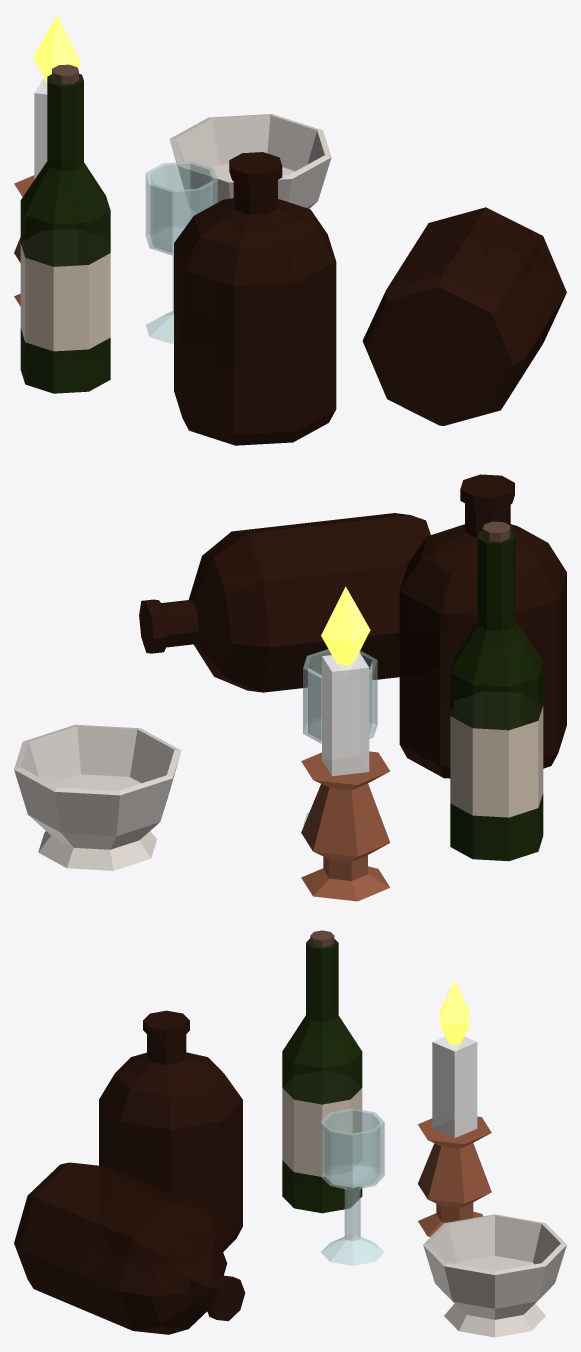
3 renders of one model, top to bottom at view 1: azimuth 30°, elevation 25°; view 2: azimuth 150°, elevation 25°; view 3: azimuth 270°, elevation 25°, orthographic. The views are drawn at different scales.
Parts seen in each view (by area): view 1: Glass_0.08x0.08x0.18_proxy.001_1, Glass_0.08x0.08x0.18_proxy.001_2, Glass_0.08x0.08x0.18_proxy.001_5, Glass_0.08x0.08x0.18_proxy.001_3, Glass_0.08x0.08x0.18_proxy.001_0, Glass_0.08x0.08x0.18_proxy.001_8, Glass_0.08x0.08x0.18_proxy.001_7; view 2: Glass_0.08x0.08x0.18_proxy.001_1, Glass_0.08x0.08x0.18_proxy.001_5, Glass_0.08x0.08x0.18_proxy.001_2, Glass_0.08x0.08x0.18_proxy.001_6, Glass_0.08x0.08x0.18_proxy.001_3, Glass_0.08x0.08x0.18_proxy.001_7, Glass_0.08x0.08x0.18_proxy.001_0, Glass_0.08x0.08x0.18_proxy.001_8; view 3: Glass_0.08x0.08x0.18_proxy.001_1, Glass_0.08x0.08x0.18_proxy.001_5, Glass_0.08x0.08x0.18_proxy.001_2, Glass_0.08x0.08x0.18_proxy.001_0, Glass_0.08x0.08x0.18_proxy.001_6, Glass_0.08x0.08x0.18_proxy.001_3, Glass_0.08x0.08x0.18_proxy.001_7, Glass_0.08x0.08x0.18_proxy.001_8.
Boxes of the visible parts, <box> form: Glass_0.08x0.08x0.18_proxy.001_1: <box>174,152,566,445</box>; Glass_0.08x0.08x0.18_proxy.001_2: <box>20,74,110,393</box>; Glass_0.08x0.08x0.18_proxy.001_5: <box>169,114,331,208</box>; Glass_0.08x0.08x0.18_proxy.001_3: <box>20,244,110,351</box>; Glass_0.08x0.08x0.18_proxy.001_0: <box>145,161,217,344</box>; Glass_0.08x0.08x0.18_proxy.001_8: <box>33,14,80,83</box>; Glass_0.08x0.08x0.18_proxy.001_7: <box>34,78,47,179</box>; Glass_0.08x0.08x0.18_proxy.001_1: <box>139,474,566,778</box>; Glass_0.08x0.08x0.18_proxy.001_5: <box>14,724,181,870</box>; Glass_0.08x0.08x0.18_proxy.001_2: <box>450,531,543,861</box>; Glass_0.08x0.08x0.18_proxy.001_6: <box>301,751,390,901</box>; Glass_0.08x0.08x0.18_proxy.001_3: <box>450,706,543,817</box>; Glass_0.08x0.08x0.18_proxy.001_7: <box>322,652,369,776</box>; Glass_0.08x0.08x0.18_proxy.001_0: <box>303,649,377,825</box>; Glass_0.08x0.08x0.18_proxy.001_8: <box>321,586,370,665</box>; Glass_0.08x0.08x0.18_proxy.001_1: <box>14,1010,245,1334</box>; Glass_0.08x0.08x0.18_proxy.001_5: <box>423,1214,566,1337</box>; Glass_0.08x0.08x0.18_proxy.001_2: <box>282,938,362,1213</box>; Glass_0.08x0.08x0.18_proxy.001_0: <box>320,1108,384,1265</box>; Glass_0.08x0.08x0.18_proxy.001_6: <box>418,1116,491,1236</box>; Glass_0.08x0.08x0.18_proxy.001_3: <box>282,1088,362,1176</box>; Glass_0.08x0.08x0.18_proxy.001_7: <box>432,1036,477,1137</box>; Glass_0.08x0.08x0.18_proxy.001_8: <box>439,979,469,1044</box>.
Bounding box in the file's own units: 0.8376 × 0.54 × 1.04.
